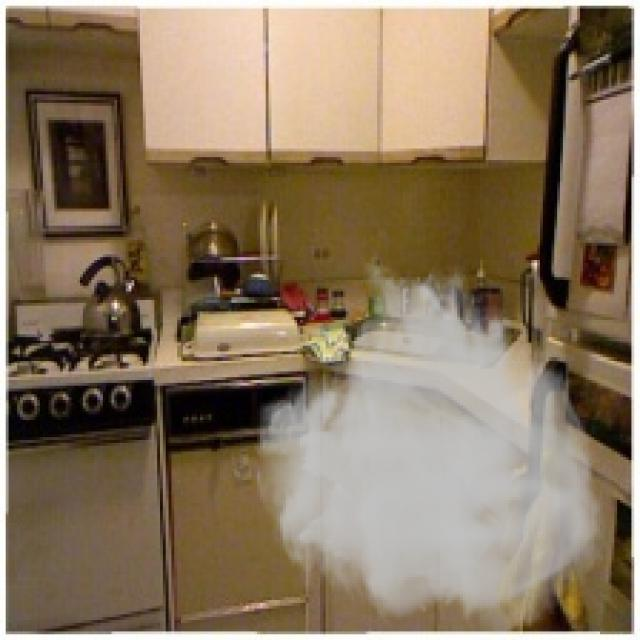smoke: (252, 254, 608, 637)
